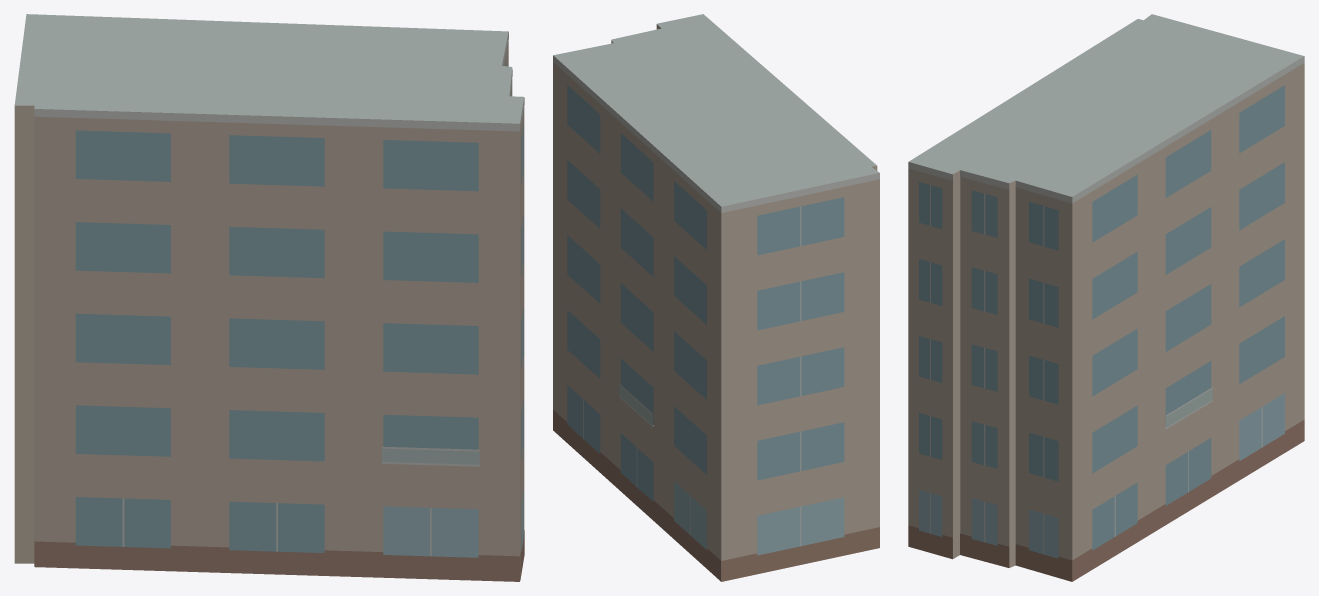
Rendered from survey-upis-32725942.glb.
3 views of the same model, side by side, from view 1: azimuth 30°, elevation 25°; view 2: azimuth 150°, elevation 25°; view 3: azimuth 270°, elevation 25° (orthographic). The views are drawn at different scales.
Parts seen in each view (by area): view 1: survey-upis-32725942.tmp; view 2: survey-upis-32725942.tmp; view 3: survey-upis-32725942.tmp.
Part boxes in pixels (left/top/right/bottom): survey-upis-32725942.tmp: left=14, top=14, right=524, bottom=581; survey-upis-32725942.tmp: left=553, top=14, right=879, bottom=581; survey-upis-32725942.tmp: left=908, top=14, right=1304, bottom=581.
Size of the model in its own units: 14.7 by 14.4 by 13.44.
